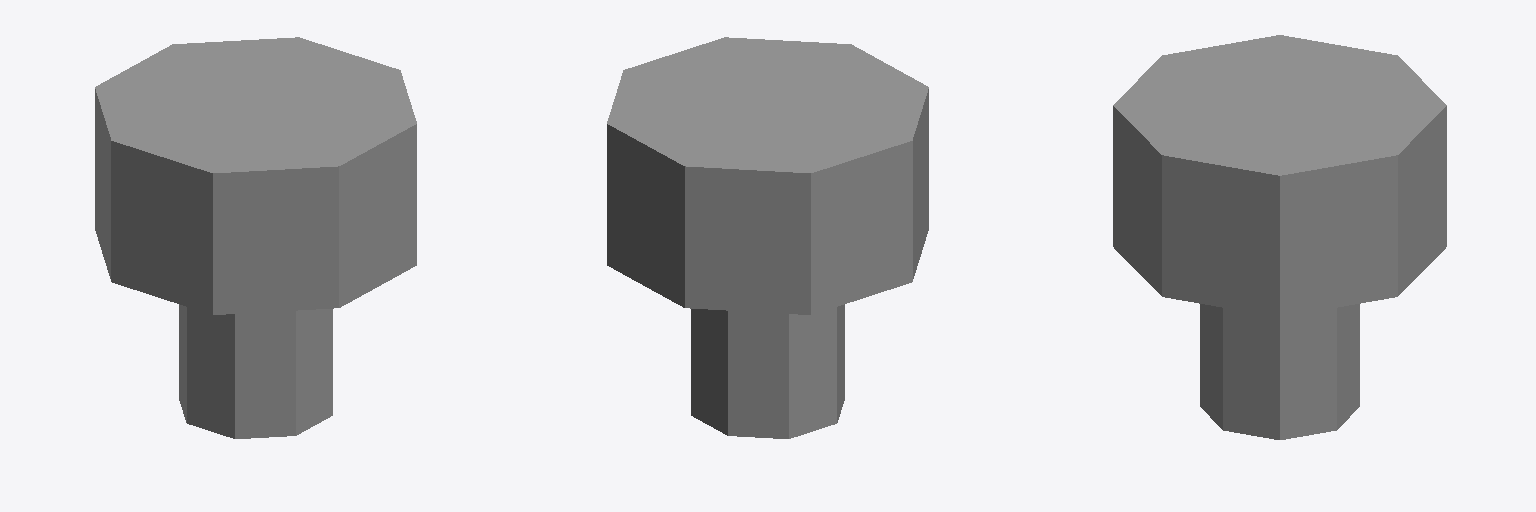
File: SeatSpinner.obj
3 renders of one model, left to right at view 1: azimuth 30°, elevation 25°; view 2: azimuth 150°, elevation 25°; view 3: azimuth 270°, elevation 25°, orthographic.
Visible parts, largest first — view 1: SeatSpinner_Cylinder.001; view 2: SeatSpinner_Cylinder.001; view 3: SeatSpinner_Cylinder.001.
Boxes of the visible parts, <box> form: SeatSpinner_Cylinder.001: <box>95,37,416,438</box>; SeatSpinner_Cylinder.001: <box>607,37,928,438</box>; SeatSpinner_Cylinder.001: <box>1113,35,1446,439</box>.
Bounding box in the file's own units: 0.1505 × 0.1499 × 0.1505.